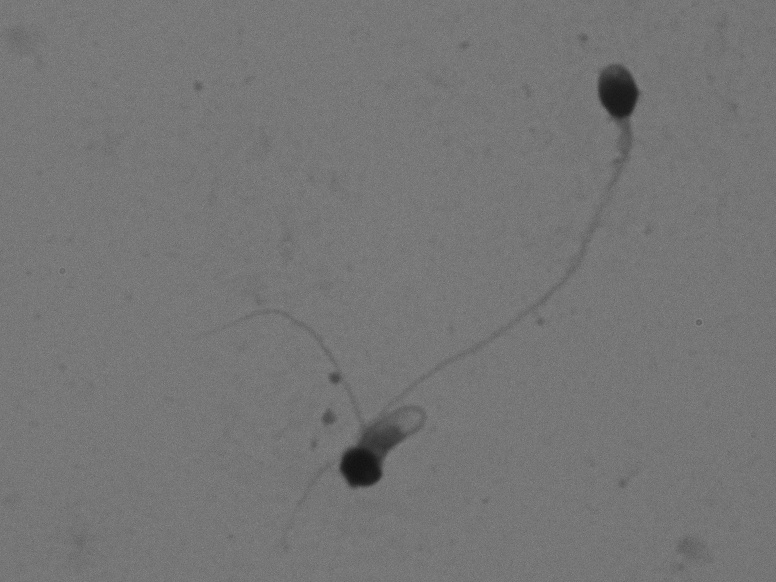Abnormal: (374, 49, 667, 409), (169, 295, 463, 504)
